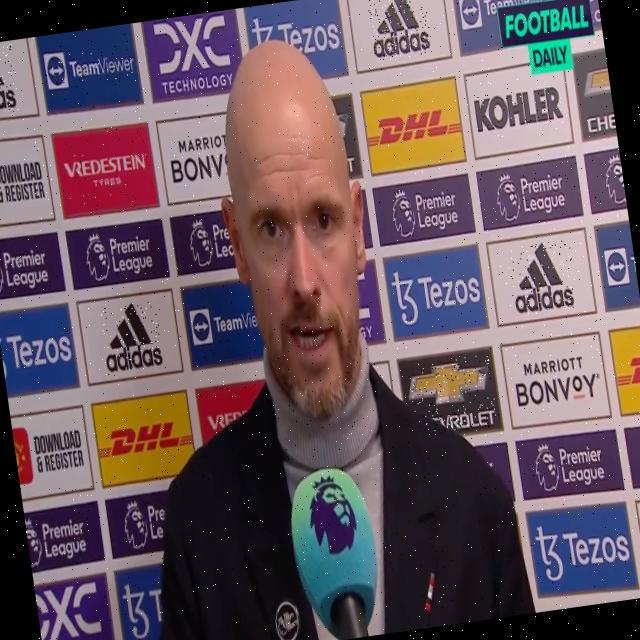Adidas: (505, 238, 579, 317), (99, 300, 165, 375), (366, 0, 433, 63), (0, 41, 21, 117)
Chevrolet: (407, 354, 499, 438)
Kohler: (472, 85, 565, 135)
TeamViewer: (45, 44, 138, 92)
